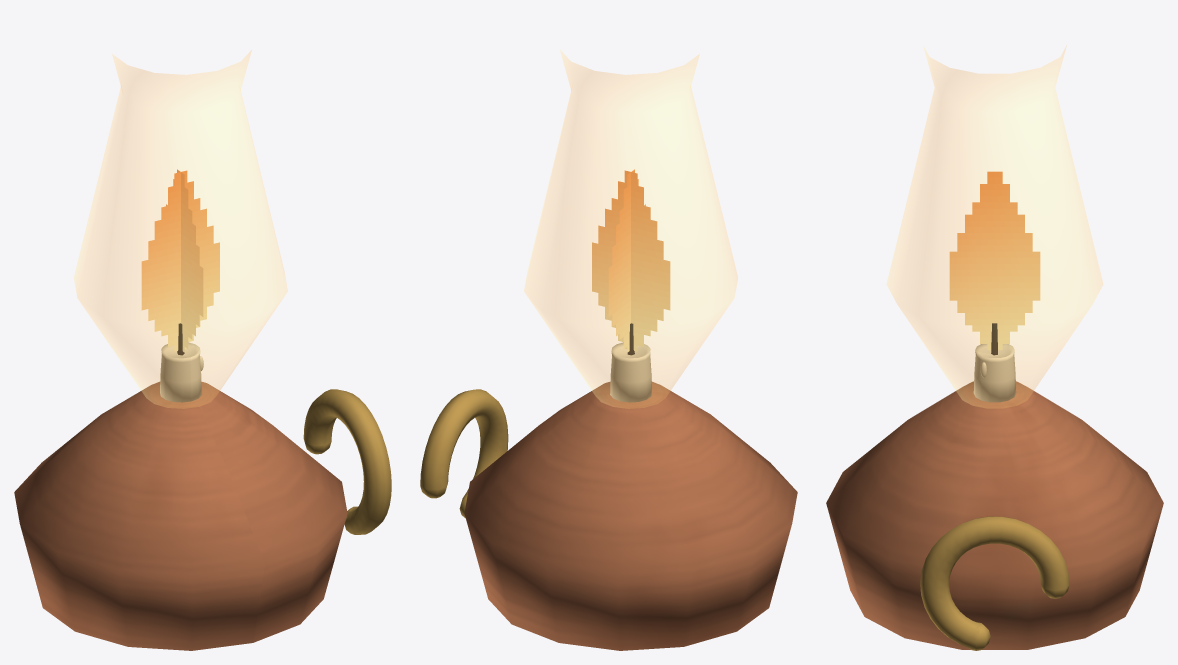
File: oilLamp.glb
The picture shows the model from 3 angles, left to right: view 1: azimuth 30°, elevation 25°; view 2: azimuth 150°, elevation 25°; view 3: azimuth 270°, elevation 25°; orthographic projection.
Visible parts, largest first — view 1: oilLamp; view 2: oilLamp; view 3: oilLamp.
Boxes of the visible parts, x1=… form: oilLamp: x1=14, y1=50, x2=391, y2=650; oilLamp: x1=420, y1=50, x2=797, y2=650; oilLamp: x1=826, y1=45, x2=1163, y2=650.
Size of the model in its own units: 0.1543 by 0.2501 by 0.14.
6 materials, 4 textured.
